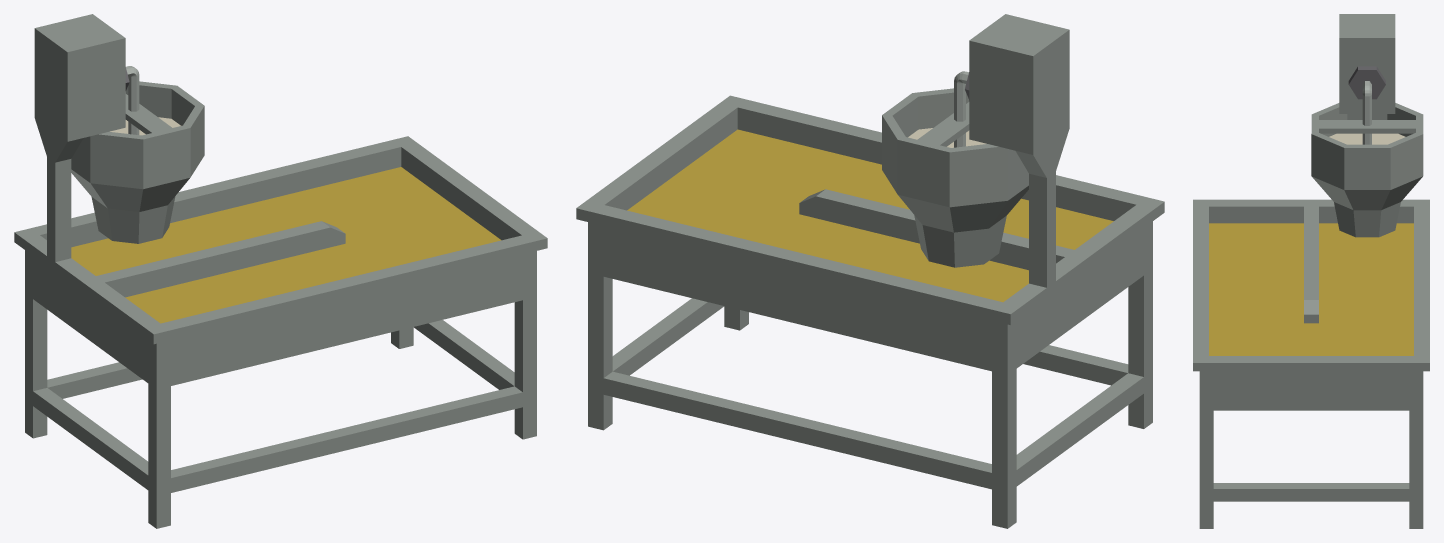
File: DonutFryer02.fbx
The picture shows the model from 3 angles, left to right: view 1: azimuth 30°, elevation 25°; view 2: azimuth 150°, elevation 25°; view 3: azimuth 270°, elevation 25°; orthographic projection. The views are drawn at different scales.
Visible parts, largest first — view 1: DonutFryer02; view 2: DonutFryer02; view 3: DonutFryer02.
Part boxes in pixels (x1=…): DonutFryer02: x1=14, y1=14, x2=547, y2=528; DonutFryer02: x1=576, y1=14, x2=1164, y2=528; DonutFryer02: x1=1193, y1=14, x2=1429, y2=528.
Bounding box in the file's own units: 2.07 × 2.1 × 1.27.
